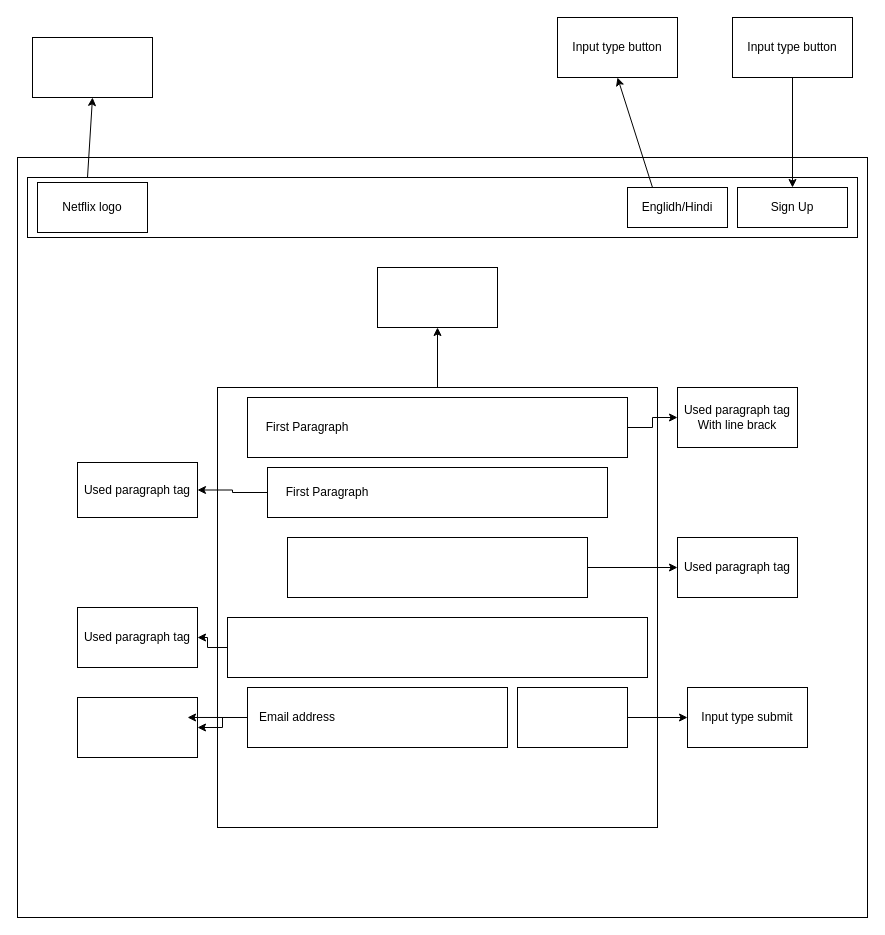
The diagram is 885 pixels wide and 935 high, and some of its shapes have lost their labels. The shapes that lost their labels are listed below. From the top down, each one's centre as x and y in pixels, then its label:
At pixel 92 67: "Netflix logo we can use img tage".
At pixel 437 297: "Use display flex".
At pixel 437 567: "Second paragraph".
At pixel 437 647: "Third paragraph".
At pixel 137 727: "Input type search".
At pixel 572 717: "Get started".
